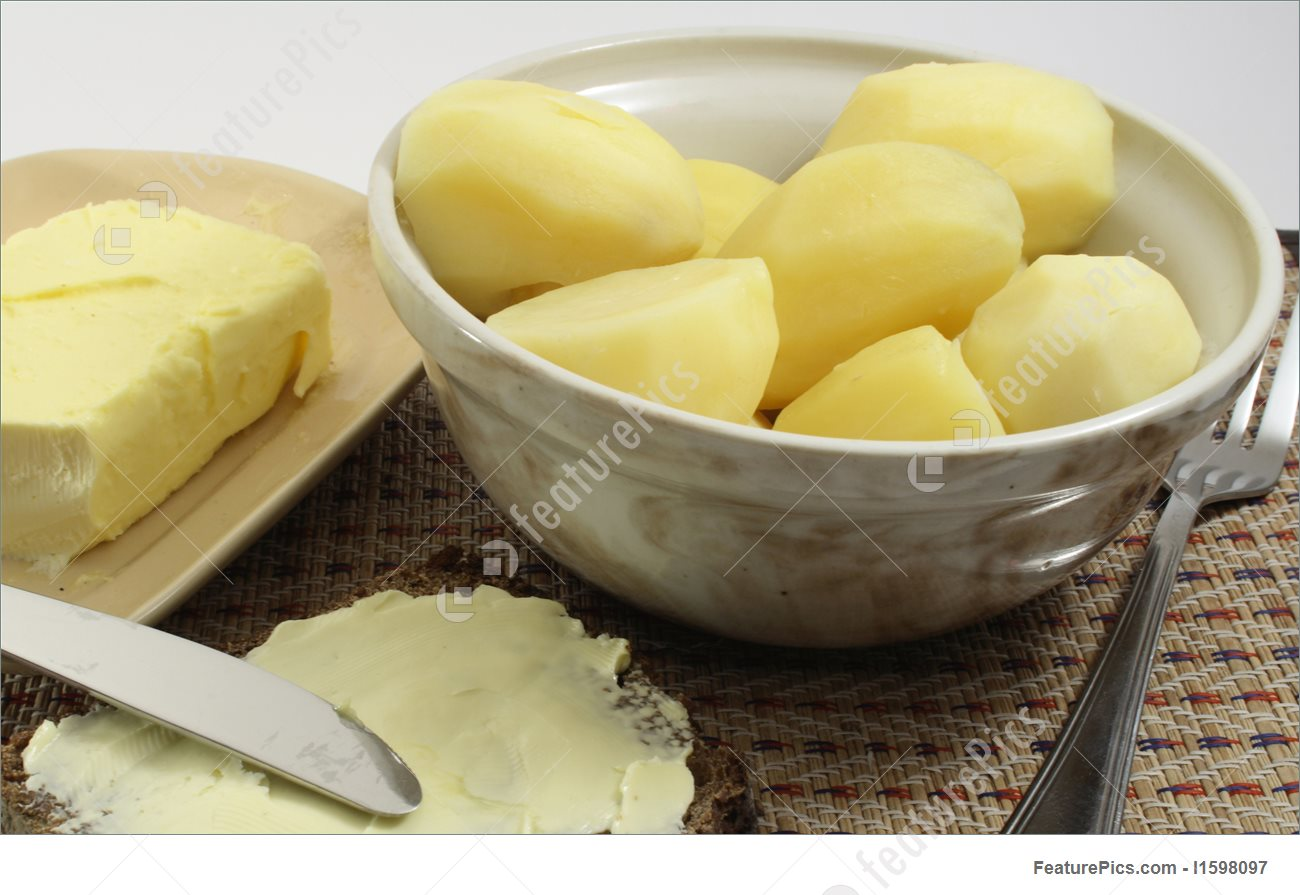boiled potatoes: (431, 66, 1219, 423)
